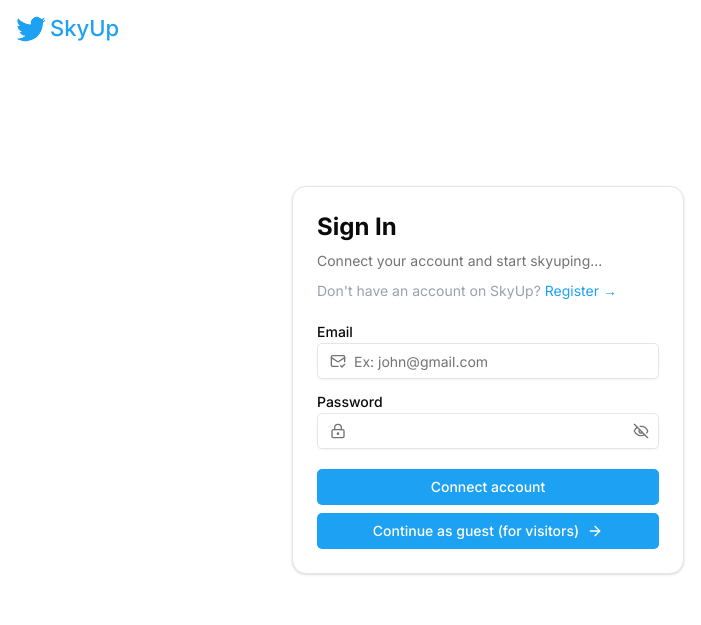
Test: SignIn page › shows submit error when API returns a string error
Type "wrong@example.com" into the field with placeholder "Ex: john@gmail.com" at (502, 361), box [346,343,658,379]
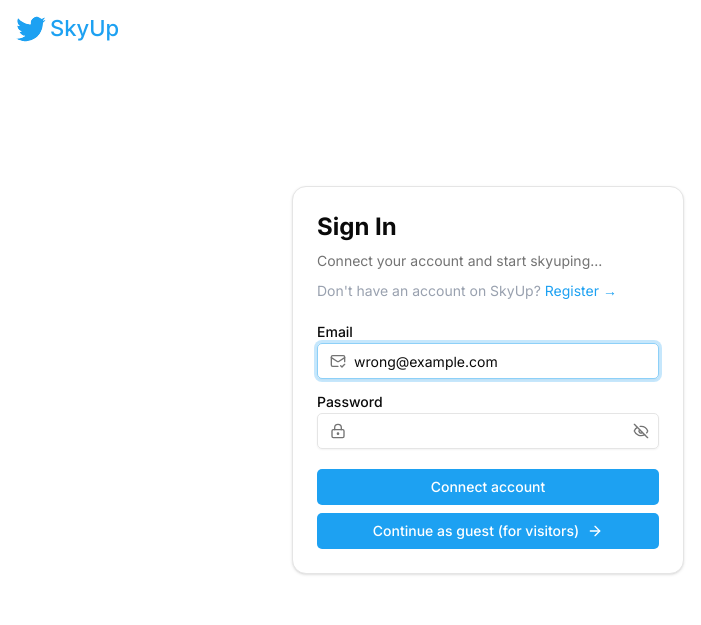
Type "wrongpass" into the password field labelled "Password" at (488, 431), box [346,413,629,449]
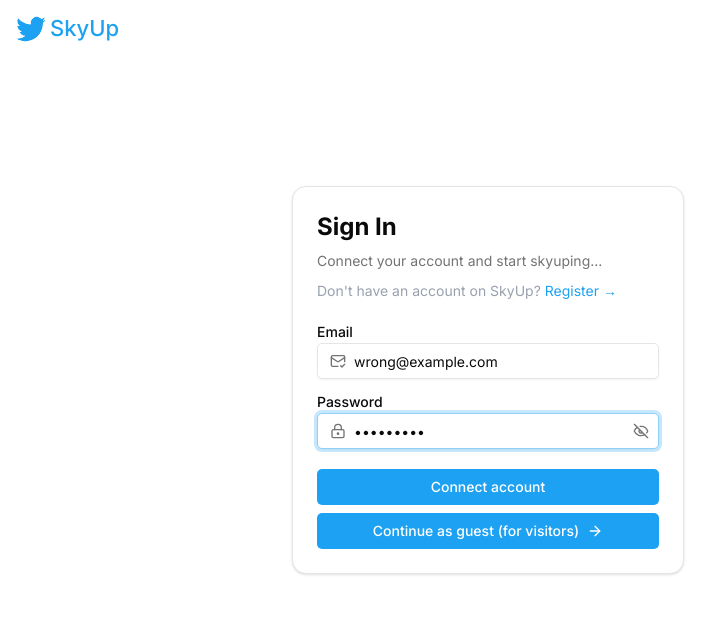
Click the button "Connect account" at (488, 487), box [317,469,659,505]
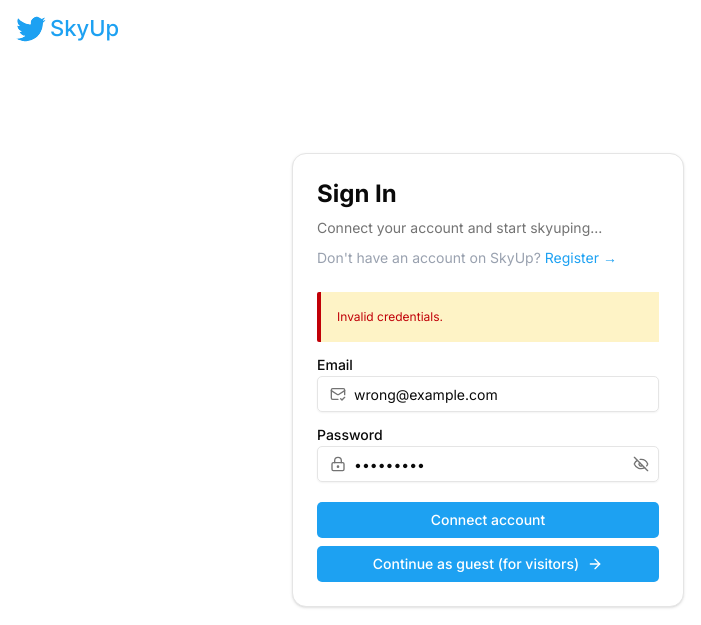
Result: the text "Invalid credentials." is shown at [337,309,443,324]
